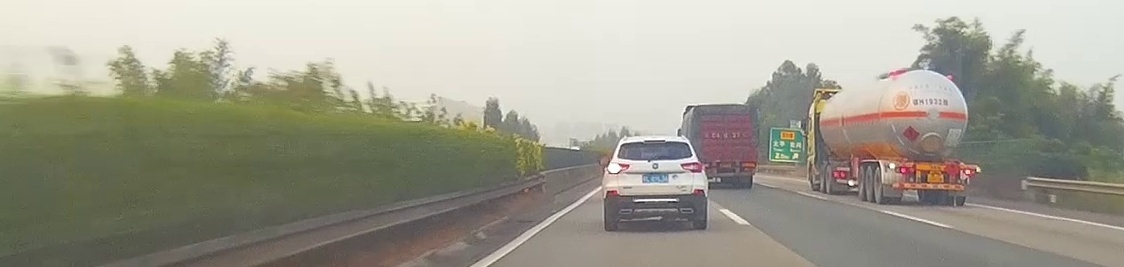L_light: (607, 161, 629, 175), (895, 167, 908, 173)
R_light: (681, 162, 704, 173), (965, 169, 975, 175)
T_light: (644, 139, 666, 142), (930, 164, 941, 169)
day-left: (602, 136, 708, 230)
day-no: (884, 158, 982, 205)
